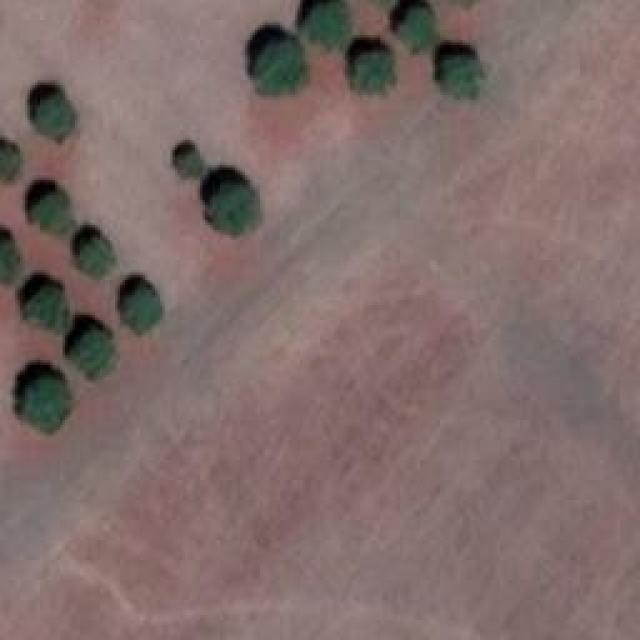Tree: (253, 43, 308, 98), (210, 185, 263, 235), (23, 378, 66, 433), (305, 0, 350, 50), (25, 288, 70, 333), (70, 333, 113, 378), (28, 193, 71, 236), (350, 53, 395, 93), (443, 55, 483, 95), (38, 95, 73, 140), (125, 290, 160, 330), (80, 238, 115, 278), (398, 8, 433, 48), (0, 243, 20, 283), (177, 150, 205, 178), (0, 148, 18, 178)
